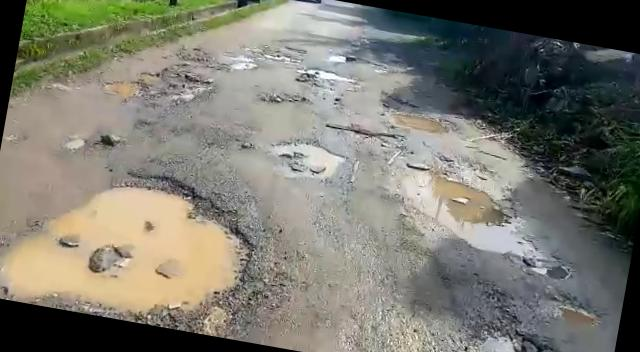pothole: (11, 148, 270, 338), (382, 165, 552, 262), (111, 55, 216, 114), (448, 318, 575, 352), (269, 134, 345, 183), (380, 103, 454, 137), (326, 122, 409, 152), (258, 86, 312, 111), (299, 64, 358, 86), (256, 46, 300, 64)
